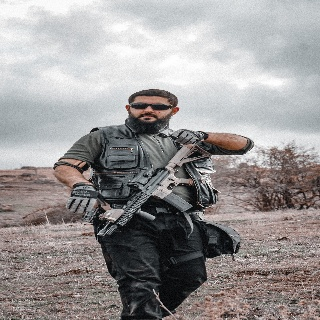rifle: (96, 142, 214, 239)
